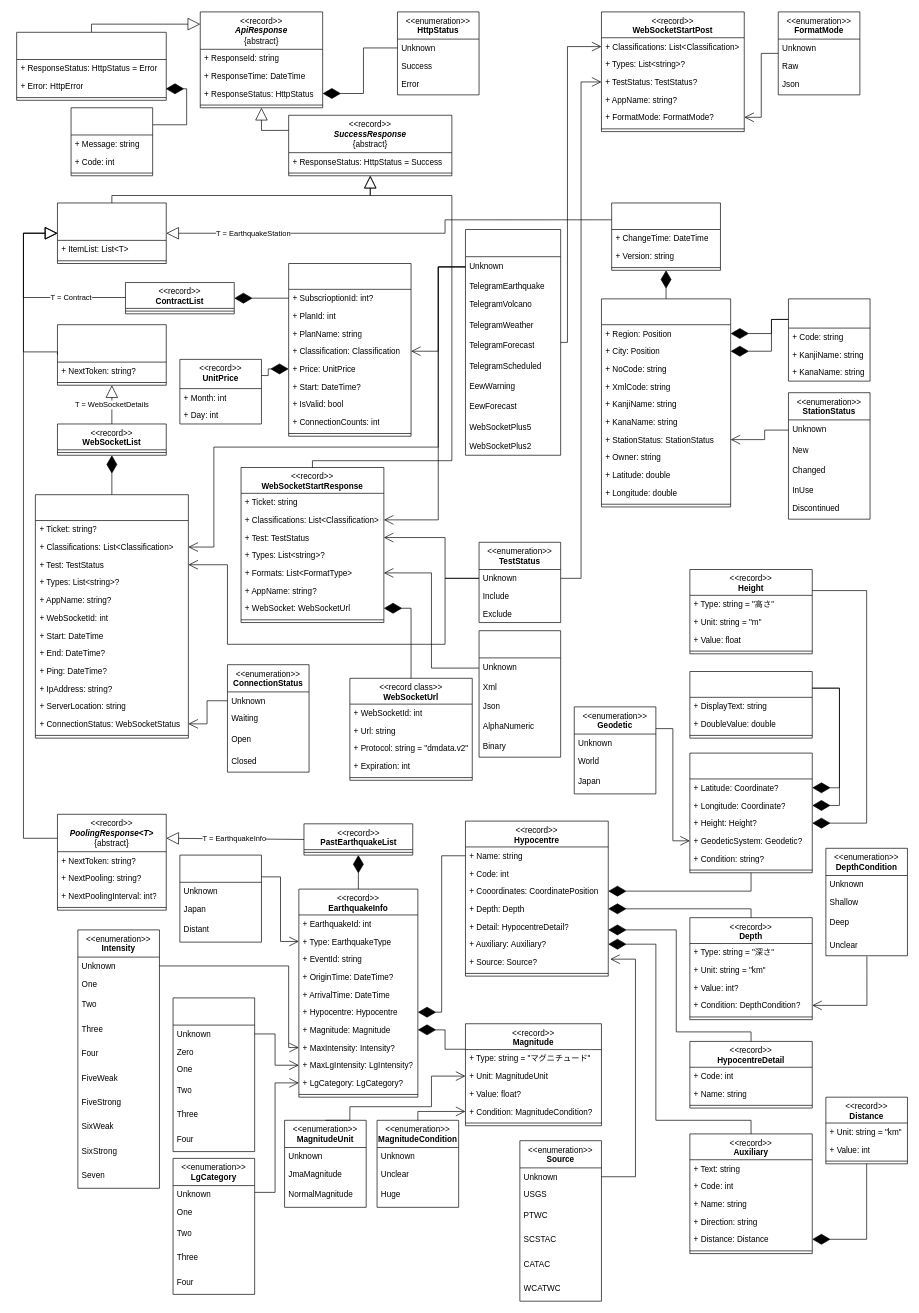
Some shapes in this 919 by 1313 pixel diagram are drawn without their labels. Here are the shapes that lost their labels. From the top down, the box of each, then its label:
(16, 32, 166, 100): <<record>> ErrorResponse
(70, 107, 153, 176): <<record>> HttpError
(57, 202, 166, 264): <<record>> ListResponse<T> {abstract}
(611, 202, 720, 270): <<record>> EarthquakeParameter
(57, 324, 166, 385): <<record>> TokenResponse<T> {abstract}
(288, 263, 411, 436): <<record>> Contract
(465, 229, 561, 455): <<enumeration>> Classification
(788, 298, 870, 381): <<record>> Position
(601, 298, 731, 507): <<record>> EarthquakeStation
(35, 494, 188, 738): <<record>> WebSocketConnectionDetails
(478, 630, 561, 757): <<enumeration>> FormatType
(689, 671, 812, 738): <<record>> Coordinate
(689, 752, 812, 873): <<record>> CoordinatePosition
(179, 854, 261, 942): <<enumeration>> EarthquakeType
(172, 997, 255, 1152): <<enumeration>> LgIntensity
